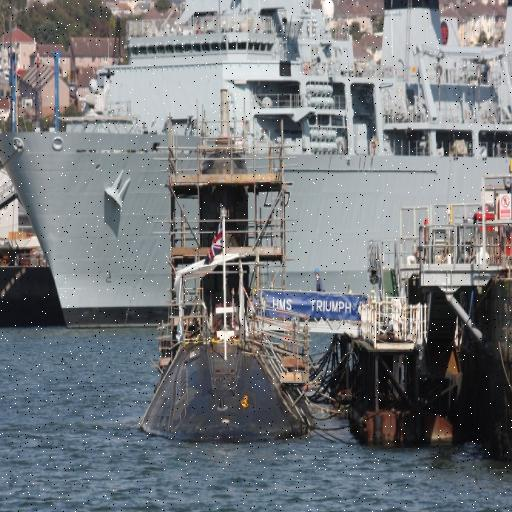submarine: (141, 332, 314, 447)
